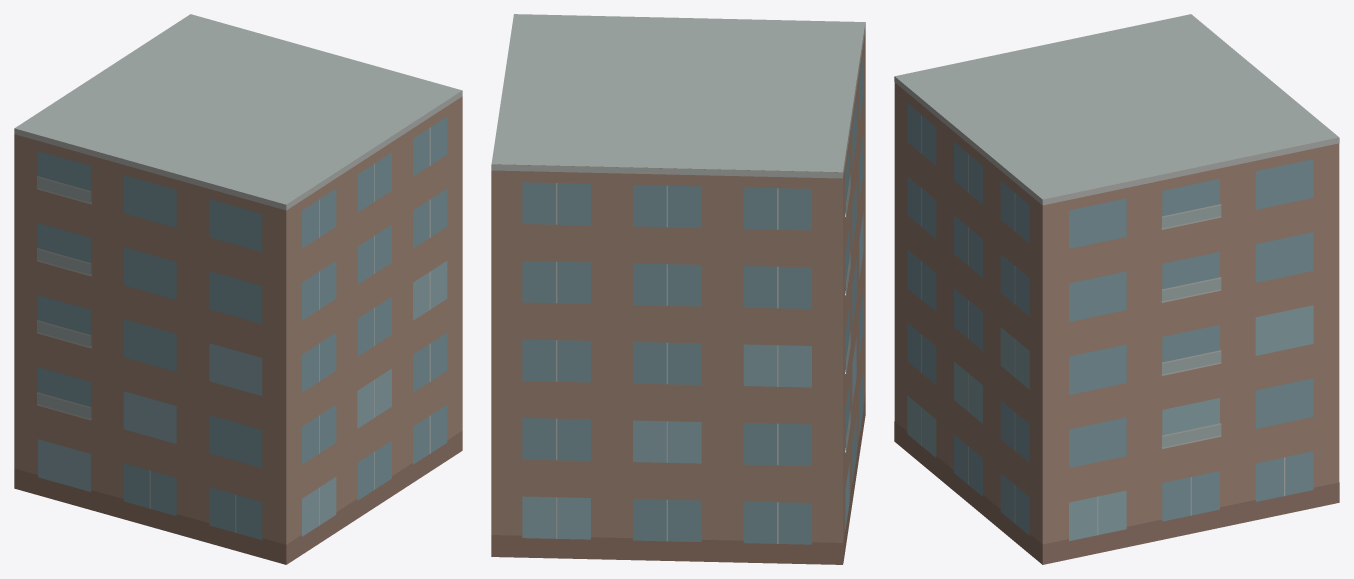
File: survey-upis-32984144.glb
3 renders of one model, left to right at view 1: azimuth 30°, elevation 25°; view 2: azimuth 150°, elevation 25°; view 3: azimuth 270°, elevation 25°, orthographic. The views are drawn at different scales.
Visible parts, largest first — view 1: survey-upis-32984144.tmp; view 2: survey-upis-32984144.tmp; view 3: survey-upis-32984144.tmp.
Part boxes in pixels (<box>): survey-upis-32984144.tmp: <box>14,14,462,564</box>; survey-upis-32984144.tmp: <box>491,14,865,564</box>; survey-upis-32984144.tmp: <box>894,14,1339,564</box>.
Size of the model in its own units: 16.63 by 15.25 by 16.85.
